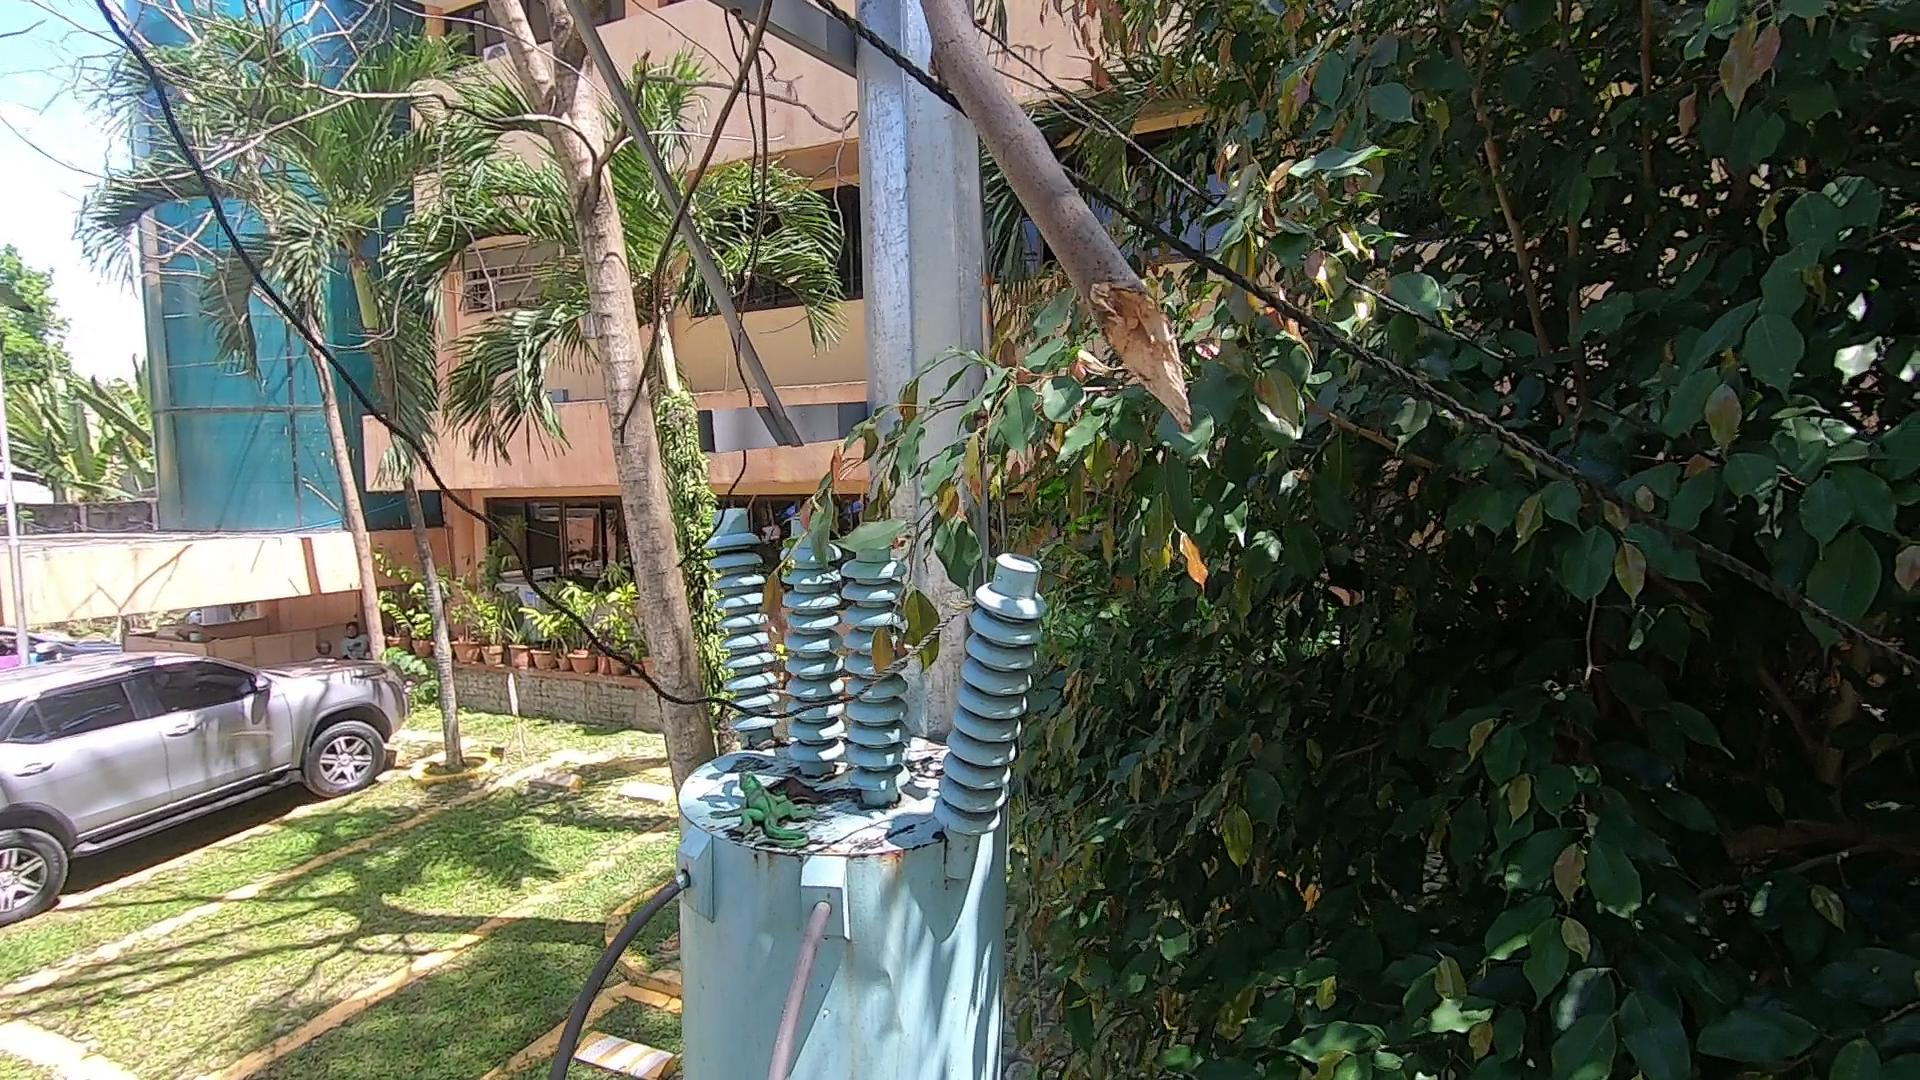branch with leaves: (738, 386, 1001, 694)
leaf: (766, 771, 864, 807), (906, 752, 971, 790), (752, 720, 783, 749)
tree branch: (669, 16, 1216, 465)
